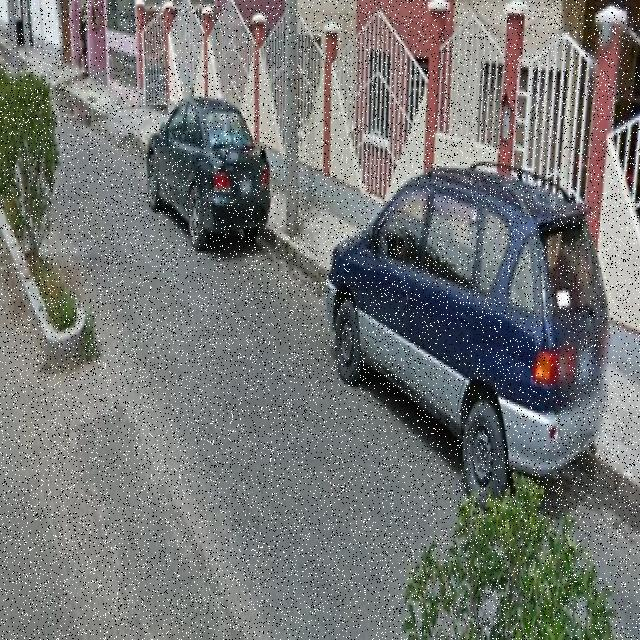cars: (324, 135, 610, 510), (140, 91, 279, 278)
